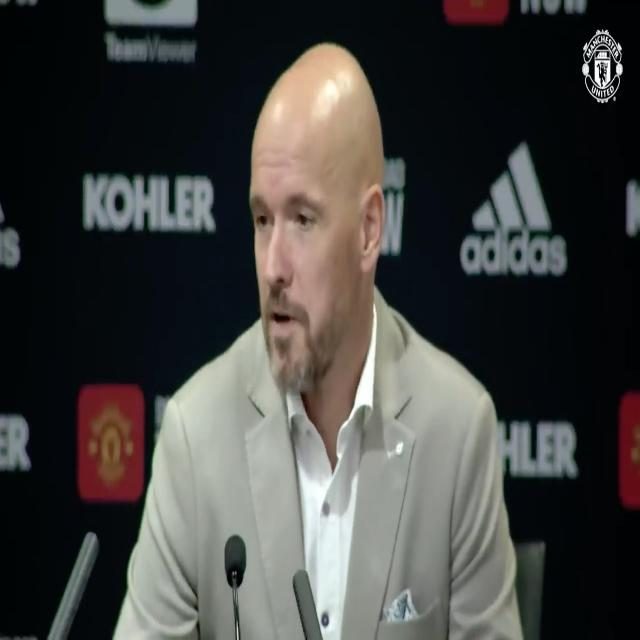Adidas: (461, 140, 568, 276)
Kohler: (84, 171, 215, 232)
TeamViewer: (105, 0, 197, 62)
